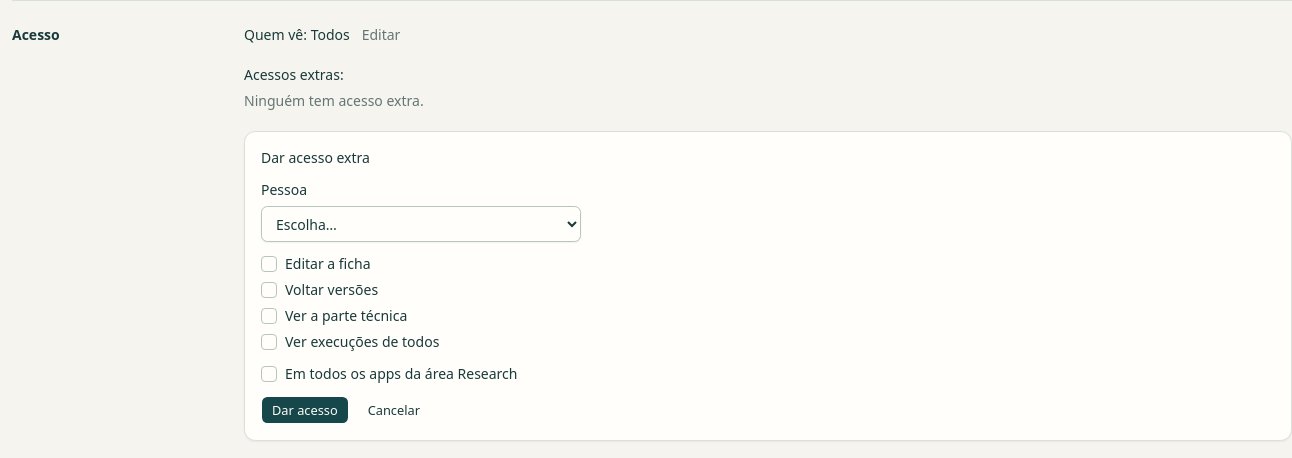
it: the leader gives an extra access for the whole area
The width and height of the screenshot is (1292, 458).
Select "Bia" in the dropdown labelled "Pessoa": (421, 224) [261, 206, 581, 242]
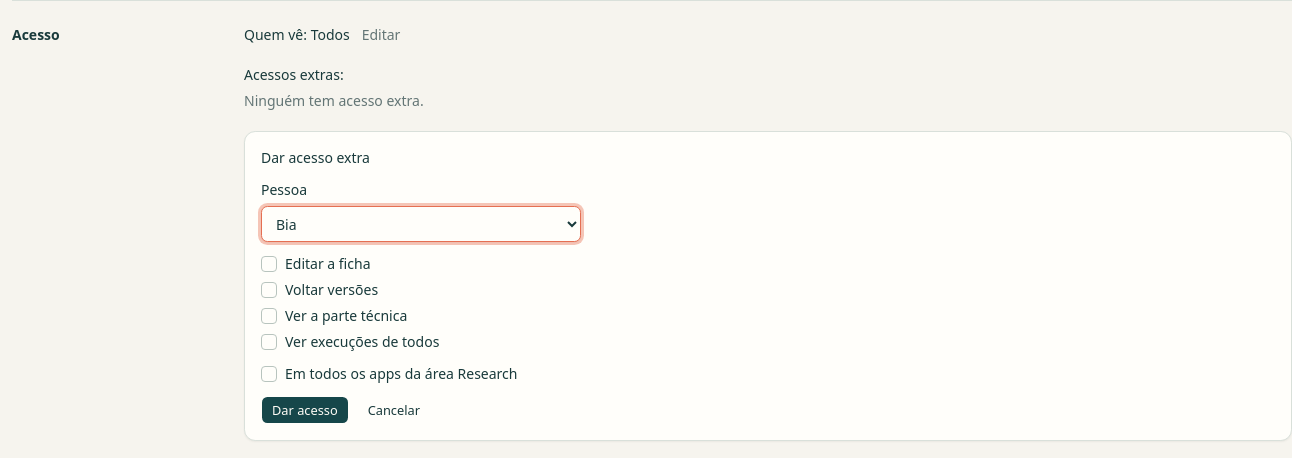
Click the checkbox named "Ver execuções de todos" next to "Ver execuções de todos": click(269, 342) [261, 334, 277, 350]
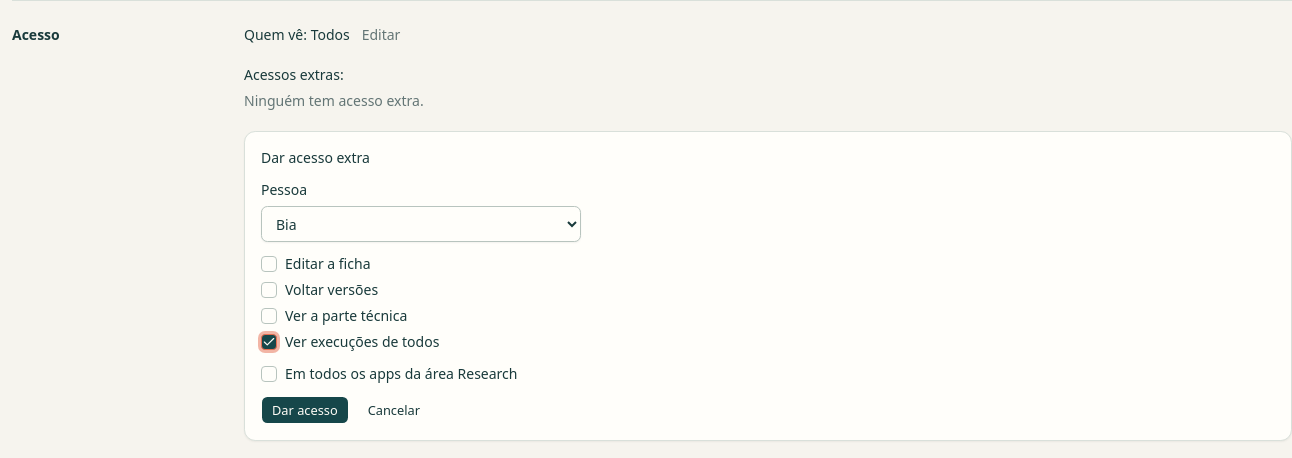
Click the checkbox named "Em todos os apps da área" next to "Em todos os apps da área Research": click(269, 374) [261, 366, 277, 382]
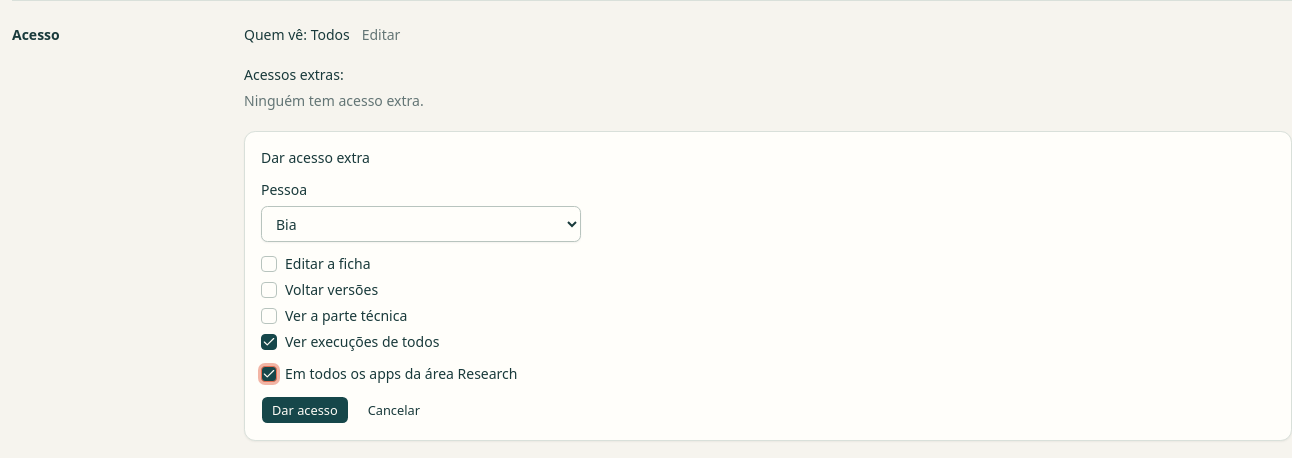
Click the button "Dar acesso": click(305, 410) [261, 396, 349, 424]
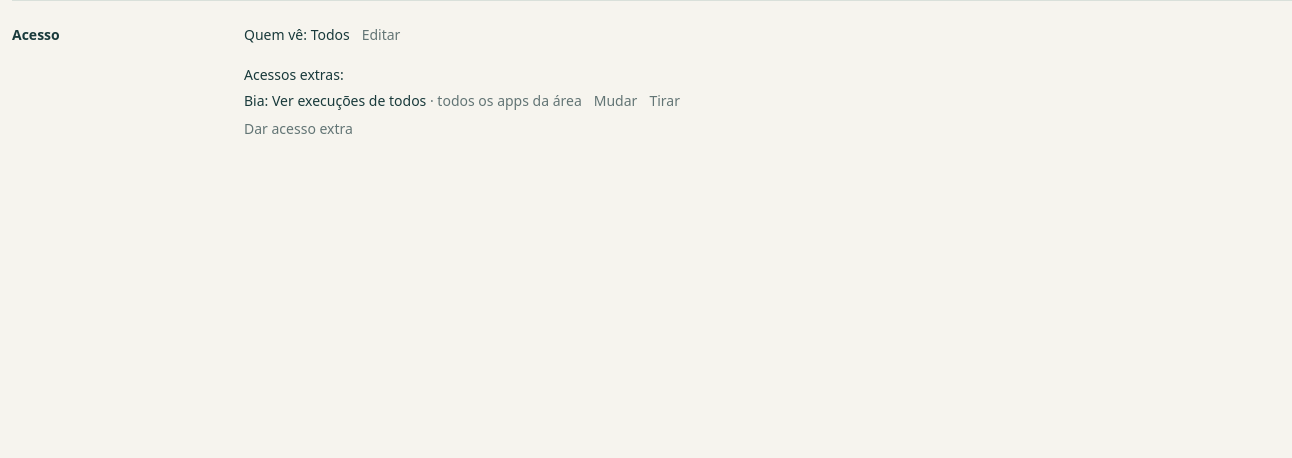
Now the text "· todos os apps da área" is shown, box [426, 91, 582, 110]
